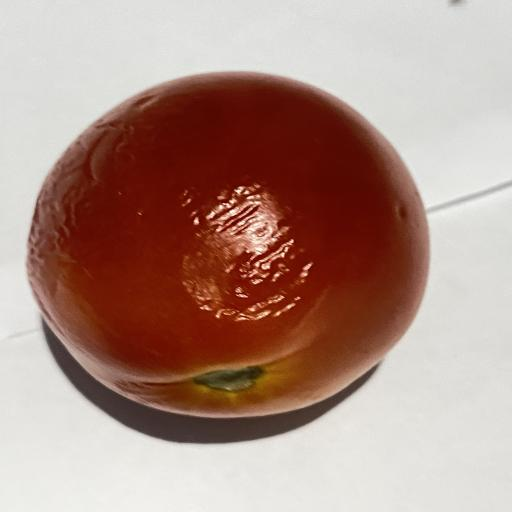spoiled: (28, 72, 429, 417), (28, 73, 429, 417), (181, 183, 313, 322), (183, 183, 294, 321)
